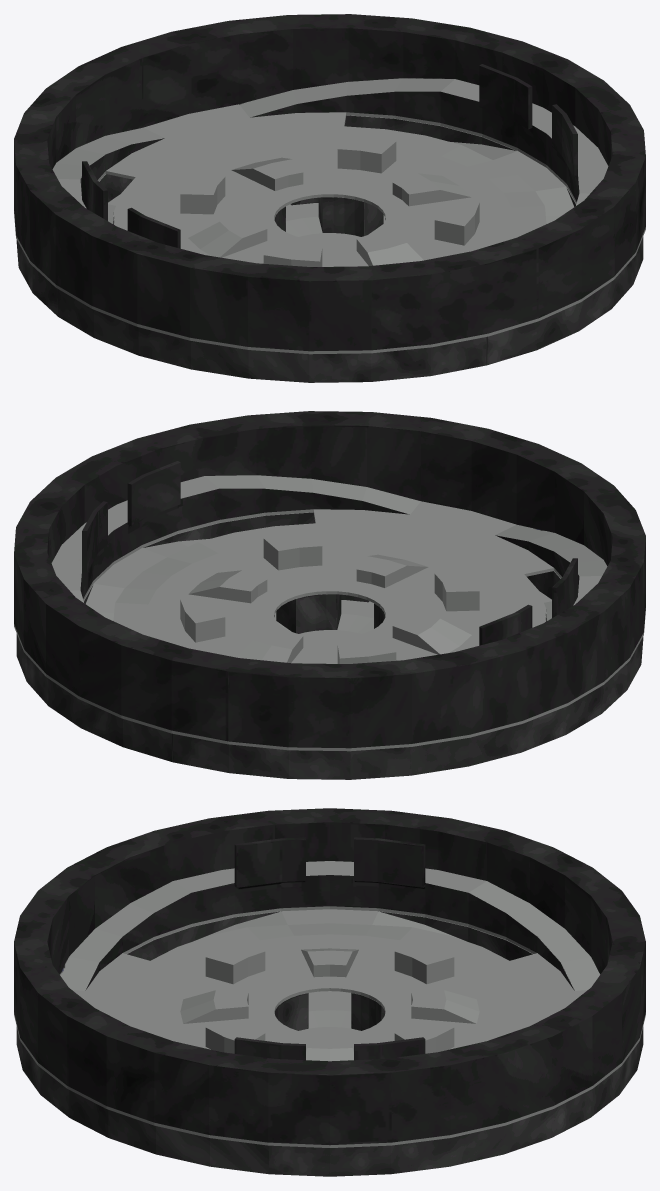
The model's file is Intel.obj.
3 views of the same model, one above another, from view 1: azimuth 30°, elevation 25°; view 2: azimuth 150°, elevation 25°; view 3: azimuth 270°, elevation 25° (orthographic).
Parts seen in each view (by area): view 1: Cylinder.002_Cylinder.001, Cylinder.001_Cylinder.002, Cylinder; view 2: Cylinder.002_Cylinder.001, Cylinder.001_Cylinder.002, Cylinder; view 3: Cylinder.002_Cylinder.001, Cylinder.001_Cylinder.002, Cylinder.
Boxes of the visible parts, box(x1,y1,x2,y2) form: Cylinder.002_Cylinder.001: box(14, 14, 645, 351); Cylinder.001_Cylinder.002: box(14, 104, 645, 354); Cylinder: box(16, 115, 643, 382); Cylinder.002_Cylinder.001: box(14, 411, 645, 748); Cylinder.001_Cylinder.002: box(14, 501, 645, 751); Cylinder: box(16, 512, 643, 779); Cylinder.002_Cylinder.001: box(14, 808, 645, 1145); Cylinder.001_Cylinder.002: box(14, 906, 645, 1147); Cylinder: box(16, 909, 643, 1176).
Bounding box in the file's own units: 77.06 × 14.6 × 77.06.
